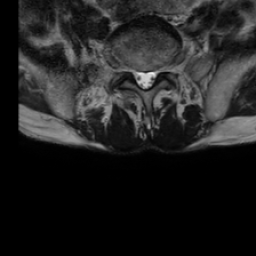CCS_normal: (142, 63, 147, 95)
LFS_stenosis: (154, 59, 162, 82)
LLS_normal: (147, 65, 154, 92)
RFS_stenosis: (126, 59, 134, 81)
RLS_normal: (134, 63, 142, 92)
